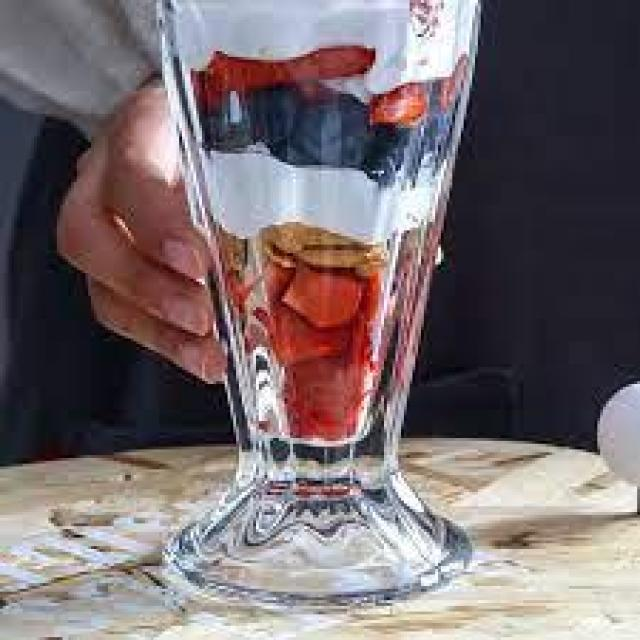Glass: (155, 2, 479, 603)
